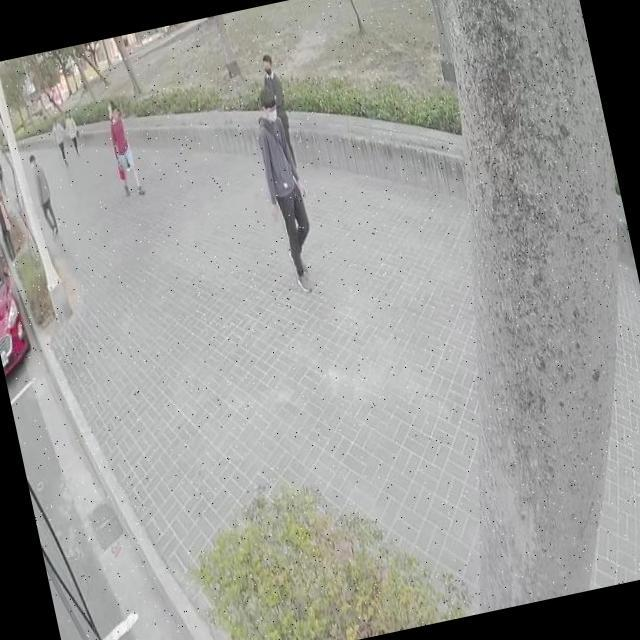person: (248, 86, 324, 292), (104, 102, 142, 196), (28, 151, 62, 238), (260, 51, 288, 116), (0, 187, 21, 268), (50, 110, 70, 164), (66, 110, 85, 158), (103, 96, 116, 120)
